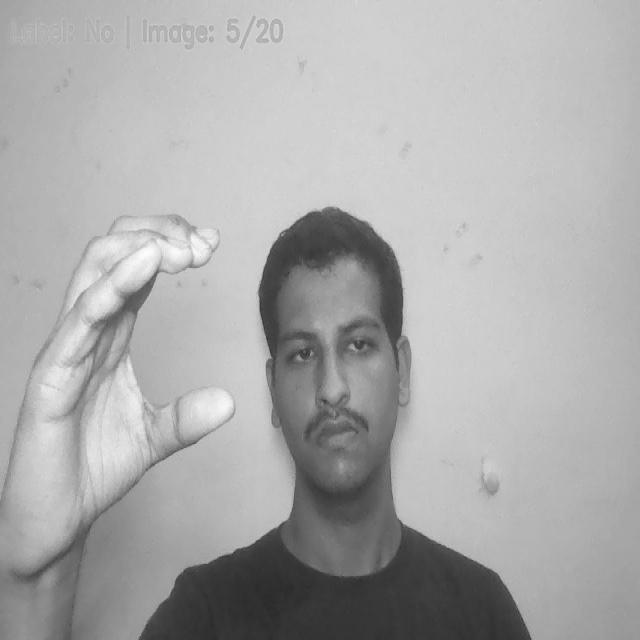No: (2, 216, 230, 526)
